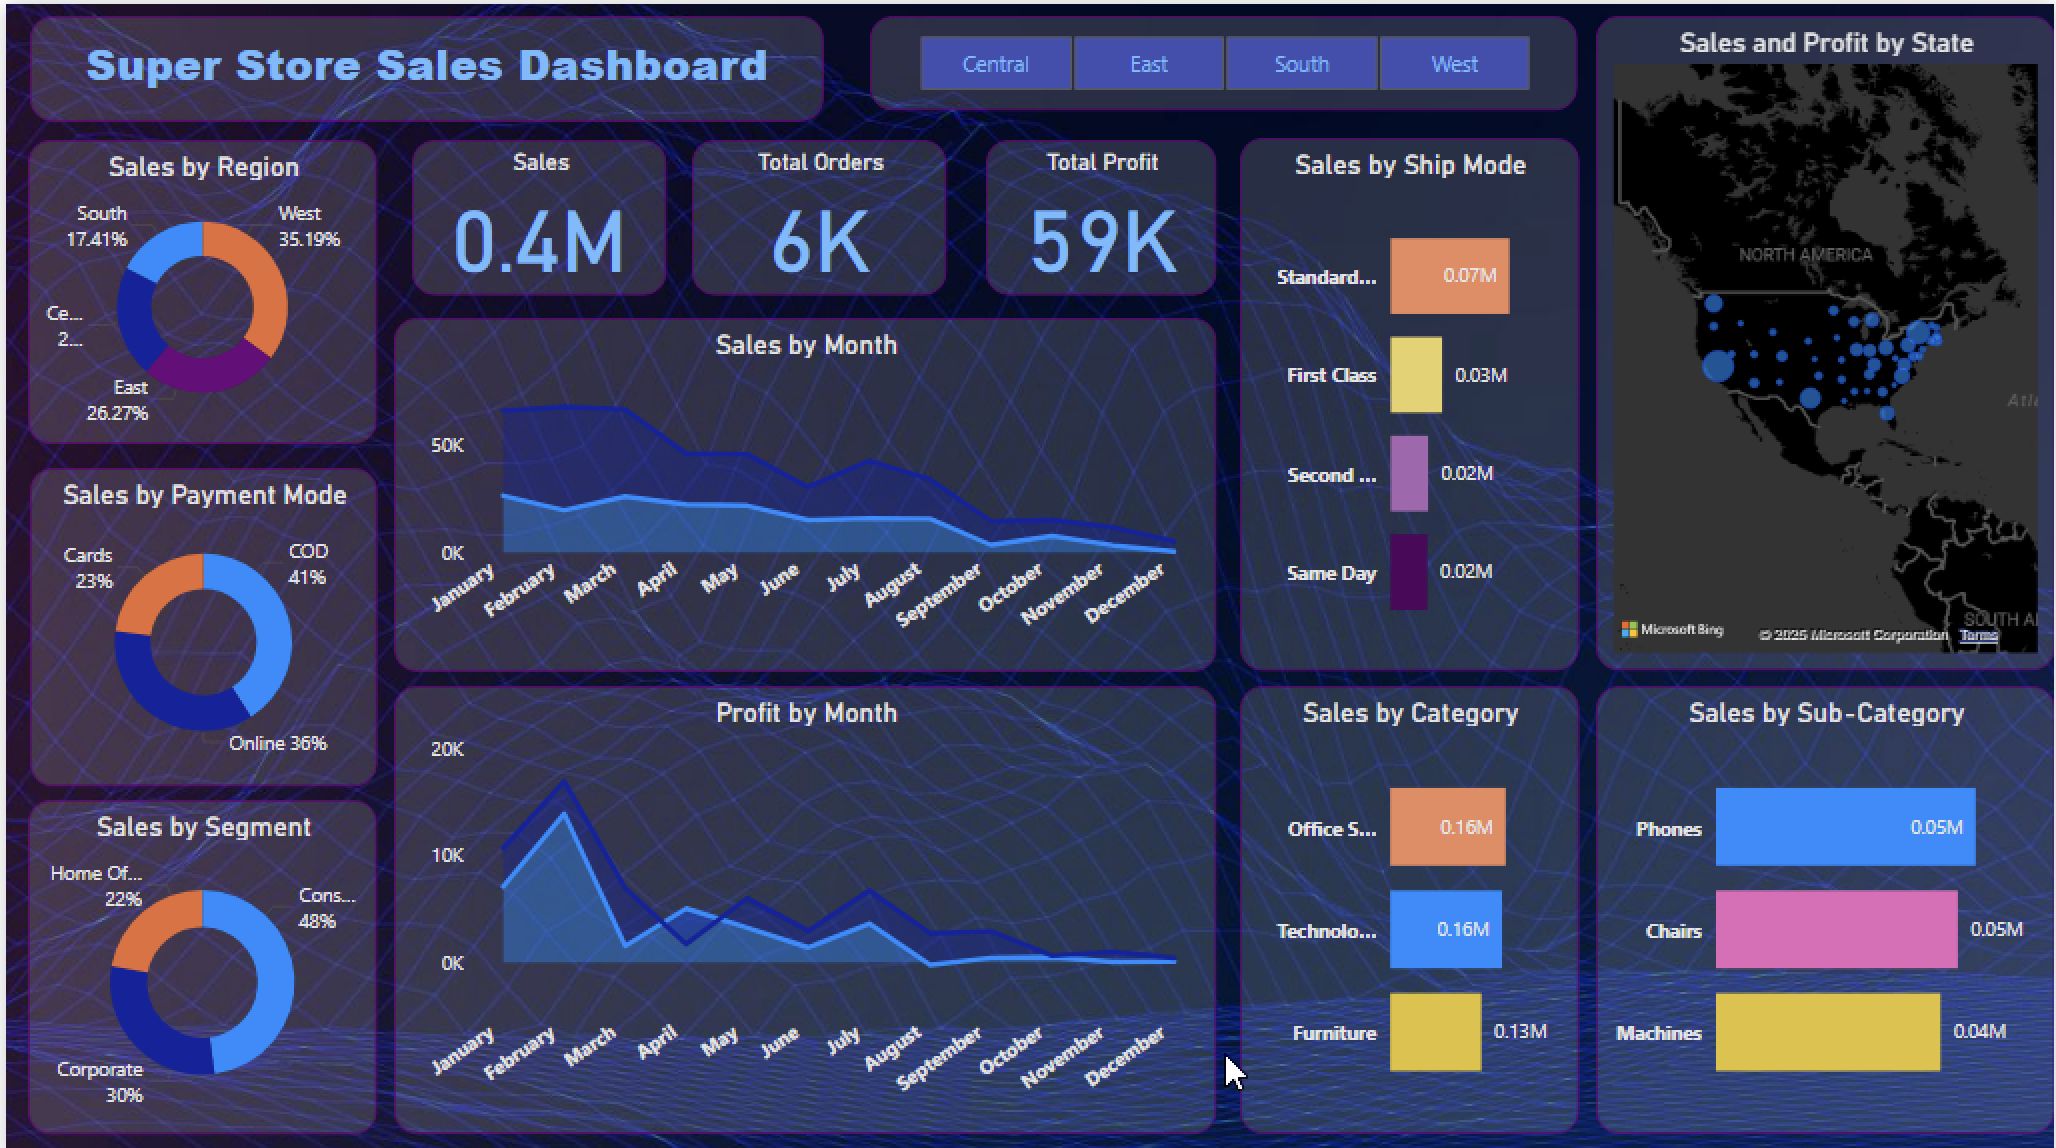

Layout of this report page (visuals, bound fields, positions):
{"tool":"powerbi","page":{"name":"Page 1","canvas":[1280,720],"ordinal":0},"visuals":[{"type":"clusteredBarChart","title":" Sales by Category","fields":{"Category":["SuperStore_Sales_Dataset.Category"],"Y":["Sum(SuperStore_Sales_Dataset.Sales)"]},"box":[771.3,425.8,211.6,280.5],"z":0},{"type":"clusteredBarChart","title":" Sales by  Ship Mode","fields":{"Category":["SuperStore_Sales_Dataset.Ship Mode"],"Y":["Sum(SuperStore_Sales_Dataset.Sales)"]},"box":[771.3,84.1,211.6,332.7],"z":1},{"type":"clusteredBarChart","title":" Sales by Sub-Category","fields":{"Category":["SuperStore_Sales_Dataset.Sub-Category"],"Y":["Sum(SuperStore_Sales_Dataset.Sales)"]},"box":[993.1,425.8,286.9,280.5],"z":2},{"type":"stackedAreaChart","title":" Sales by Month","fields":{"Y":["Sum(SuperStore_Sales_Dataset.Sales)"],"Category":["SuperStore_Sales_Dataset.Order Date.Variation.Date Hierarchy.Month","SuperStore_Sales_Dataset.Order Date.Variation.Date Hierarchy.Day"],"Series":["SuperStore_Sales_Dataset.Order Date.Variation.Date Hierarchy.Year"]},"box":[242.2,196.3,513.8,220.6],"z":3},{"type":"stackedAreaChart","title":" Profit by Month","fields":{"Category":["SuperStore_Sales_Dataset.Order Date.Variation.Date Hierarchy.Month","SuperStore_Sales_Dataset.Order Date.Variation.Date Hierarchy.Day"],"Series":["SuperStore_Sales_Dataset.Order Date.Variation.Date Hierarchy.Year"],"Y":["Sum(SuperStore_Sales_Dataset.Profit)"]},"box":[242.2,425.8,513.8,280.5],"z":4},{"type":"map","title":" Sales and Profit by State","fields":{"Category":["SuperStore_Sales_Dataset.State"],"Size":["Sum(SuperStore_Sales_Dataset.Sales)"]},"box":[993.1,7.6,286.9,409.2],"z":5},{"type":"donutChart","title":" Sales by Segment","fields":{"Category":["SuperStore_Sales_Dataset.Segment"],"Y":["Sum(SuperStore_Sales_Dataset.Sales)"]},"box":[14,497.2,218,209.1],"z":6},{"type":"donutChart","title":" Sales by Payment Mode","fields":{"Category":["SuperStore_Sales_Dataset.Payment Mode"],"Y":["Sum(SuperStore_Sales_Dataset.Sales)"]},"box":[15.3,289.4,216.7,198.9],"z":7},{"type":"slicer","fields":{"Values":["SuperStore_Sales_Dataset.Region"]},"box":[540.6,7.6,442.4,58.6],"z":8},{"type":"textbox","box":[15,7.5,496.2,66.2],"z":9},{"type":"card","title":"Sales","fields":{"Values":["Sum(SuperStore_Sales_Dataset.Sales)"]},"box":[253.7,85.4,159.4,96.9],"z":10},{"type":"card","title":"Total Orders","fields":{"Values":["Sum(SuperStore_Sales_Dataset.Quantity)"]},"box":[428.4,85.4,159.4,96.9],"z":11},{"type":"card","title":"Total Profit","fields":{"Values":["Sum(SuperStore_Sales_Dataset.Profit)"]},"box":[612,85.4,144.1,96.9],"z":12},{"type":"donutChart","title":"Sales by Region","fields":{"Category":["SuperStore_Sales_Dataset.Region"],"Y":["Sum(SuperStore_Sales_Dataset.Sales)"]},"box":[14,85.4,218,190],"z":13}]}

Visuals, with their boxes in screenshot pixels (x1, y1, x2, y2), scaled from the page's 1280x720 canvas onto the 2056x1148 screenshot:
" Sales by Category" clusteredBarChart: x1=1239 y1=679 x2=1579 y2=1126
" Sales by  Ship Mode" clusteredBarChart: x1=1239 y1=134 x2=1579 y2=665
" Sales by Sub-Category" clusteredBarChart: x1=1595 y1=679 x2=2055 y2=1126
" Sales by Month" stackedAreaChart: x1=389 y1=313 x2=1214 y2=665
" Profit by Month" stackedAreaChart: x1=389 y1=679 x2=1214 y2=1126
" Sales and Profit by State" map: x1=1595 y1=12 x2=2055 y2=665
" Sales by Segment" donutChart: x1=22 y1=793 x2=373 y2=1126
" Sales by Payment Mode" donutChart: x1=25 y1=461 x2=373 y2=779
slicer - SuperStore_Sales_Dataset.Region: x1=868 y1=12 x2=1579 y2=106
textbox: x1=24 y1=12 x2=821 y2=118
"Sales" card: x1=408 y1=136 x2=664 y2=291
"Total Orders" card: x1=688 y1=136 x2=944 y2=291
"Total Profit" card: x1=983 y1=136 x2=1214 y2=291
"Sales by Region" donutChart: x1=22 y1=136 x2=373 y2=439
